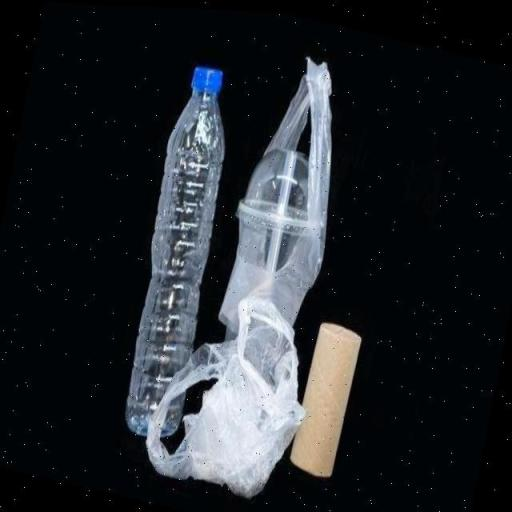plastic: (109, 52, 249, 448)
